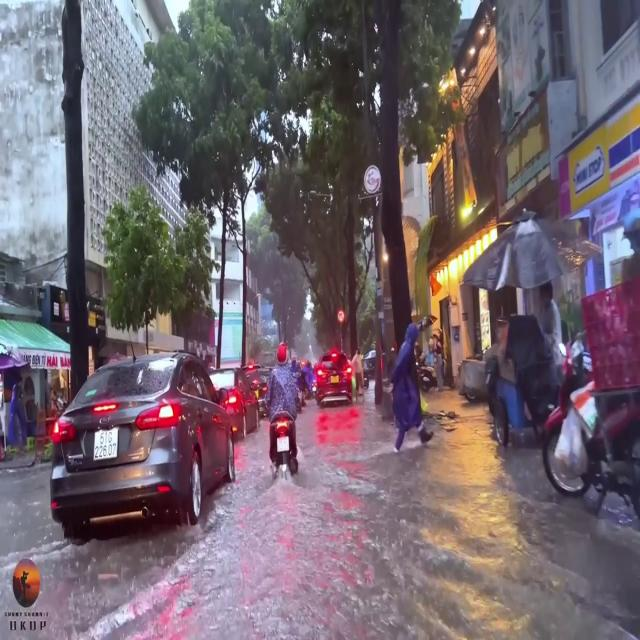bien_trang: (91, 427, 121, 459)
